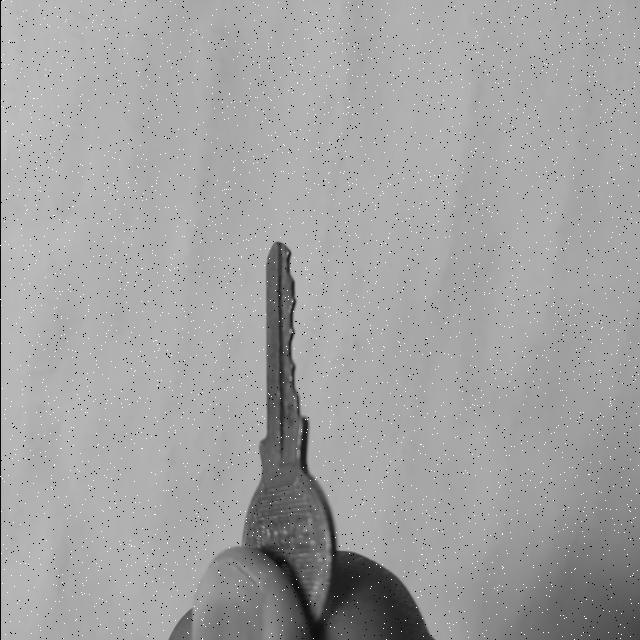key: (242, 242, 334, 622)
